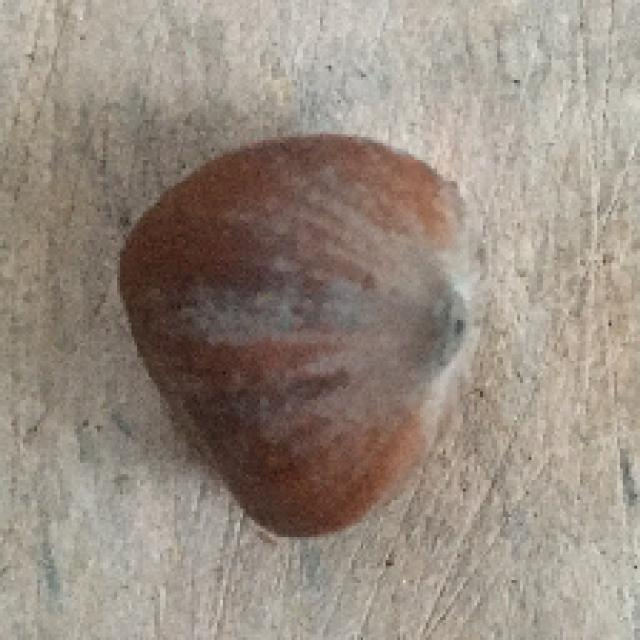qualityHazelnut: (99, 117, 502, 555)
